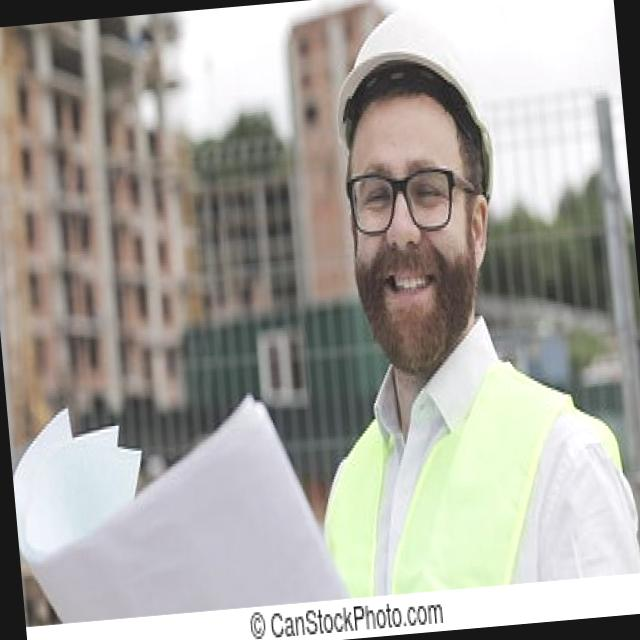goggles: (318, 138, 480, 260)
helmet: (317, 0, 501, 179)
vest: (310, 346, 599, 592)
